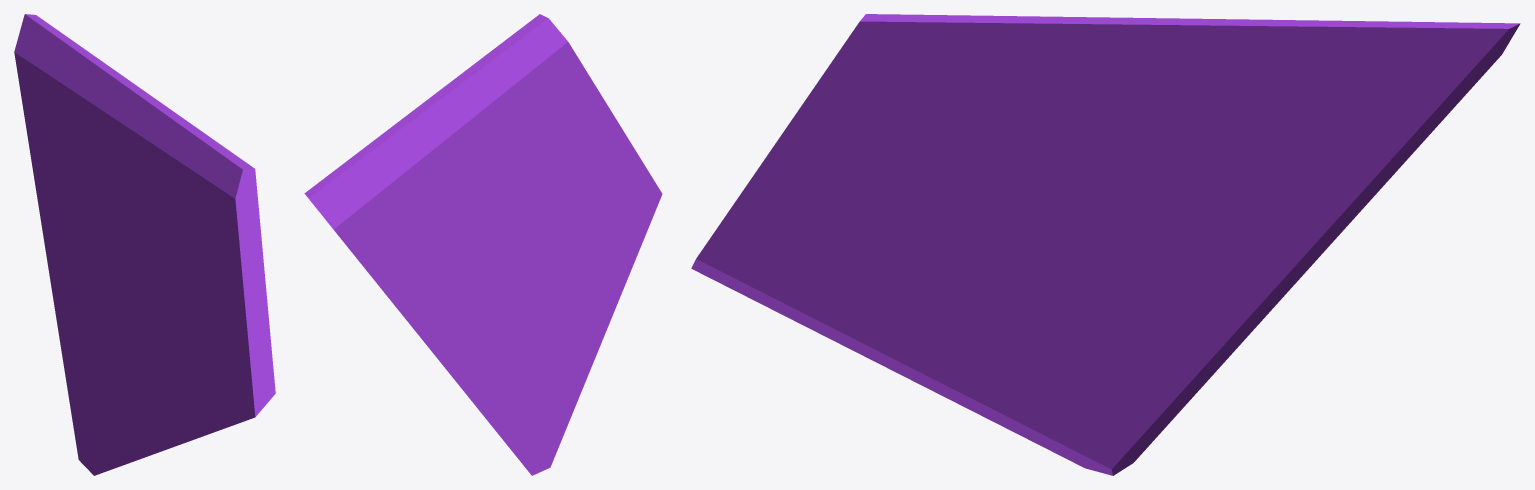
The model's file is Window_3_19_chunks.fbx.
3 views of the same model, side by side, from view 1: azimuth 30°, elevation 25°; view 2: azimuth 150°, elevation 25°; view 3: azimuth 270°, elevation 25° (orthographic). The views are drawn at different scales.
Parts seen in each view (by area): view 1: Window_3_19_0, Window_3_19_3, Window_3_19_2, Window_3_19_1; view 2: Window_3_19_0, Window_3_19_3, Window_3_19_2, Window_3_19_1; view 3: Window_3_19_3, Window_3_19_0, Window_3_19_1, Window_3_19_2.
Boxes of the visible parts, x1,y1,x2,y2 form: Window_3_19_0: (14,14,214,273); Window_3_19_3: (142,140,275,427); Window_3_19_2: (74,272,225,475); Window_3_19_1: (28,139,126,431); Window_3_19_0: (304,46,524,281); Window_3_19_3: (496,14,662,244); Window_3_19_2: (506,232,641,475); Window_3_19_1: (376,255,518,458); Window_3_19_3: (691,14,1086,330); Window_3_19_0: (966,15,1520,212); Window_3_19_1: (1064,141,1422,457); Window_3_19_2: (765,248,1157,475).
Size of the model in its own units: 125 by 477 by 704.
